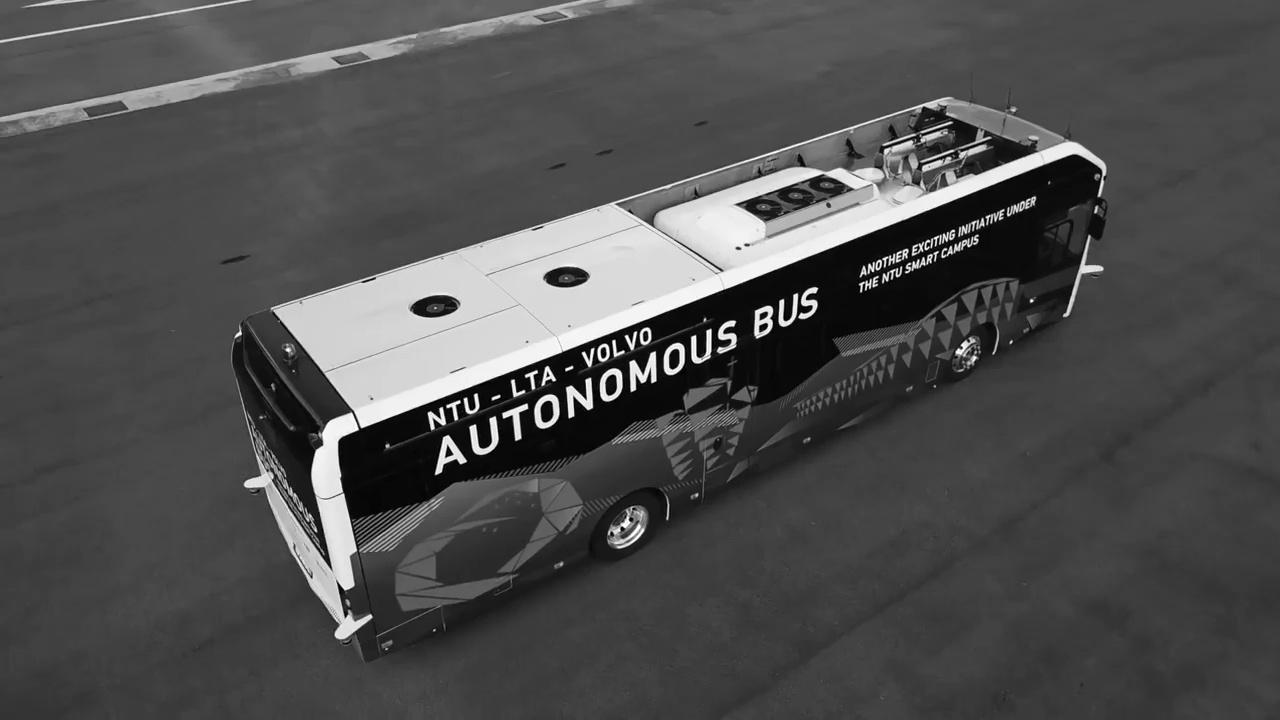Bus: (229, 86, 1110, 663)
